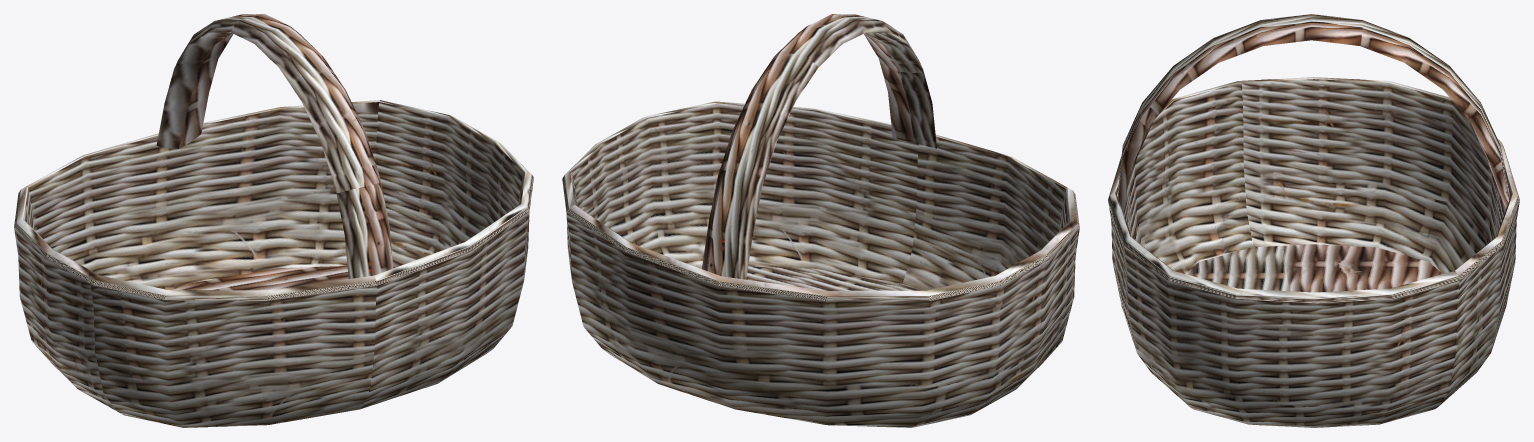
Rendered from MAND.fbx.
3 renders of one model, left to right at view 1: azimuth 30°, elevation 25°; view 2: azimuth 150°, elevation 25°; view 3: azimuth 270°, elevation 25°, orthographic.
Parts seen in each view (by area): view 1: Mandje, pTorus1; view 2: Mandje, pTorus1; view 3: Mandje, pTorus1.
Part boxes in pixels (<box>): Mandje: <box>14,100,533,427</box>; pTorus1: <box>156,14,393,278</box>; Mandje: <box>562,101,1079,427</box>; pTorus1: <box>702,14,936,279</box>; Mandje: <box>1108,77,1519,427</box>; pTorus1: <box>1118,14,1509,211</box>.
Size of the model in its own units: 3.32 by 2.2 by 2.6.
Materials: 1 (1 with a texture image).
